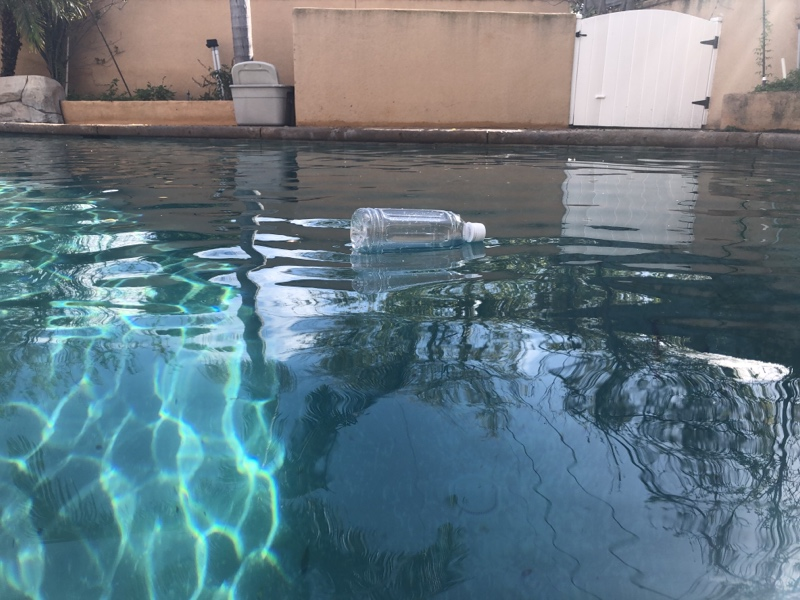Plastic Bottle: (347, 203, 488, 257)
